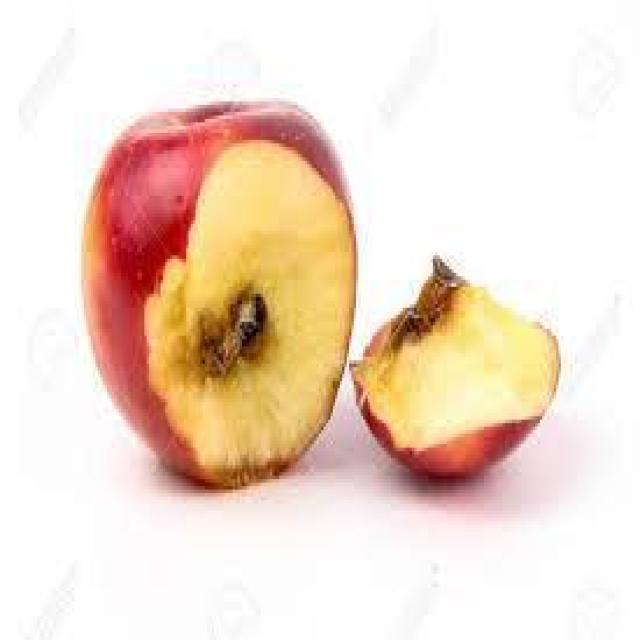maca: (79, 94, 359, 490), (349, 252, 561, 479)
